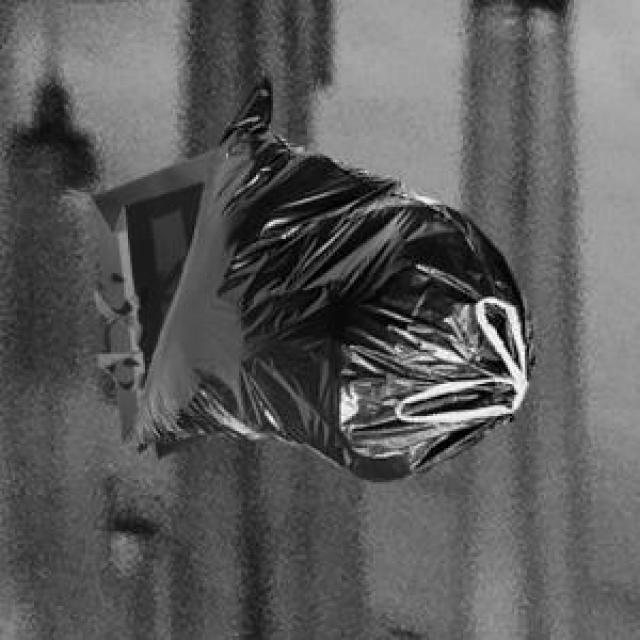miscellaneous trash: (128, 70, 531, 478)
paper: (88, 145, 212, 454)
